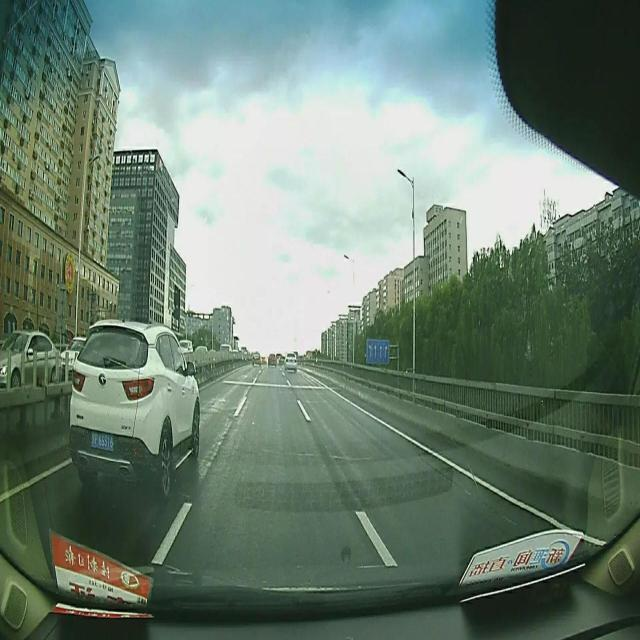car: (68, 316, 200, 500), (284, 353, 296, 369), (268, 354, 276, 366), (252, 353, 260, 365)
